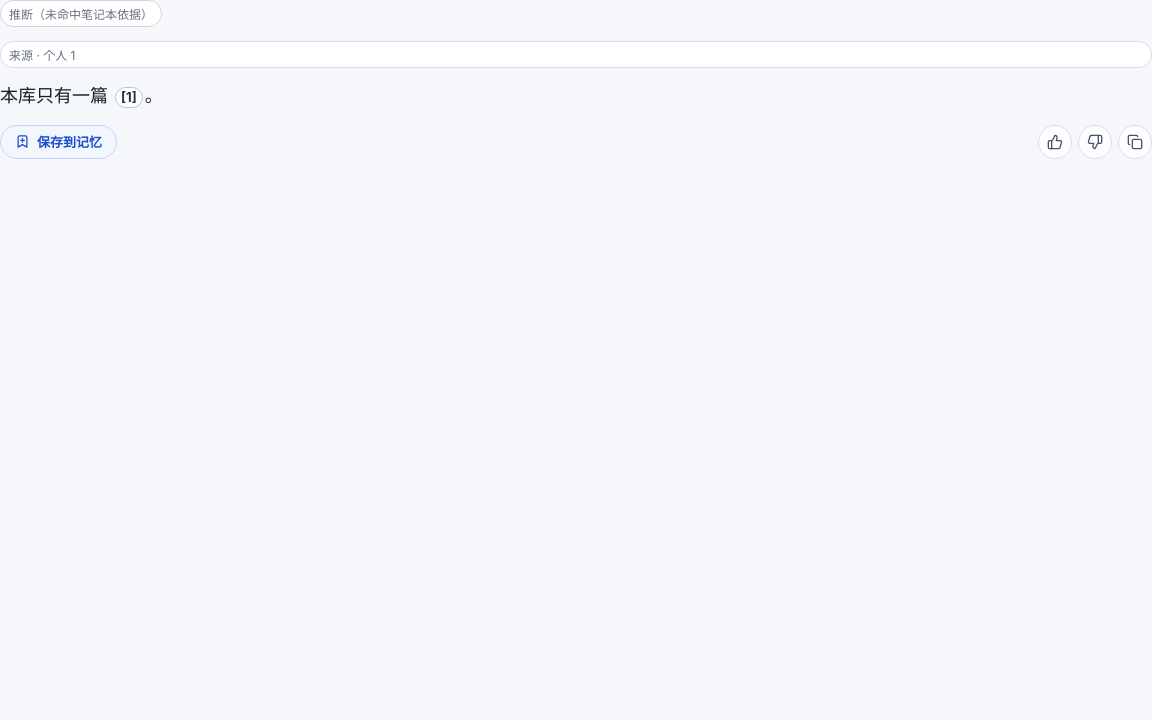
Scenario: 文档引用详情头显示界面词「来源」,既不直出 source 也不摆 KG 类型标记
Step 1. Click the button "[1]" → (129, 98), box [115,87,143,108]
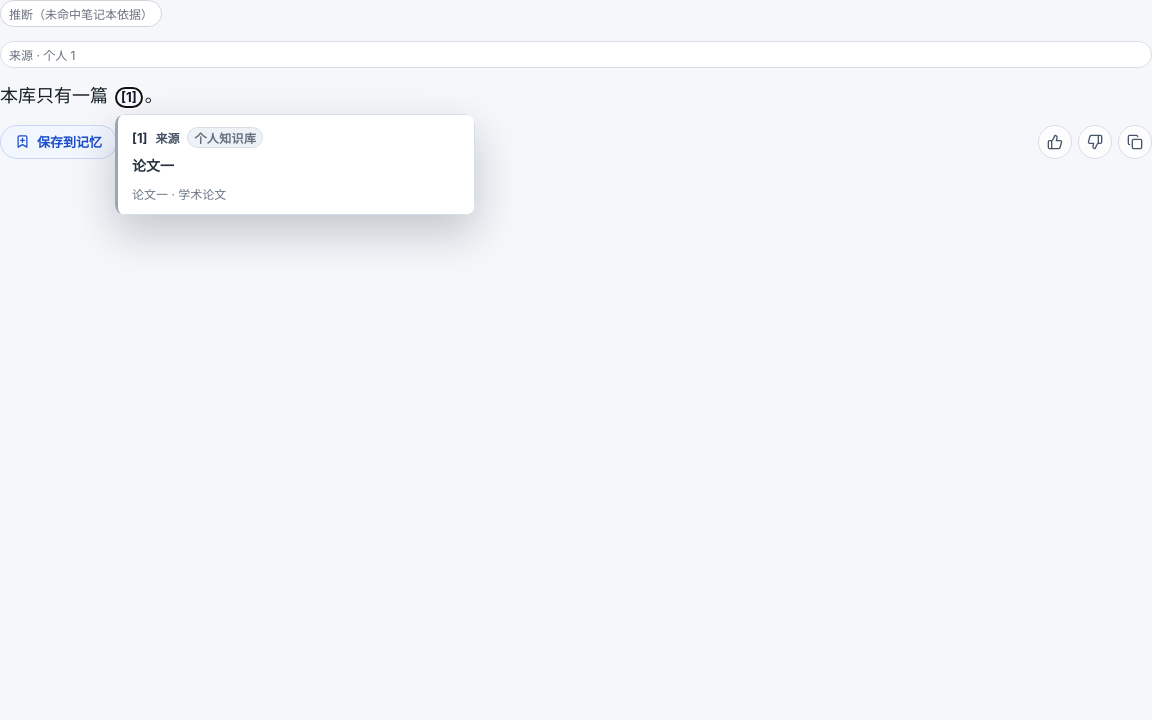
Check: the element with class "cite-detail-head" shows "来源", box [156,131,180,146]
